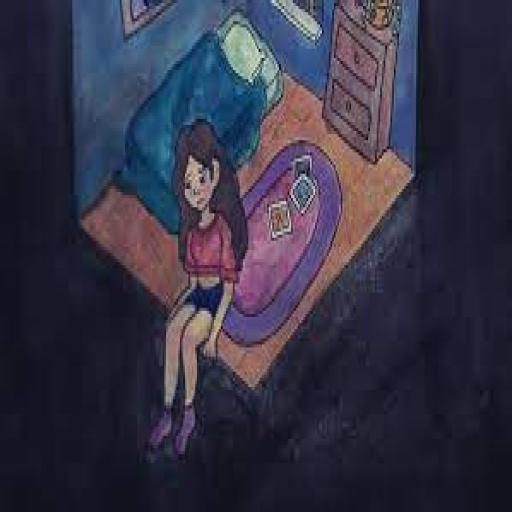person: (140, 112, 250, 462)
